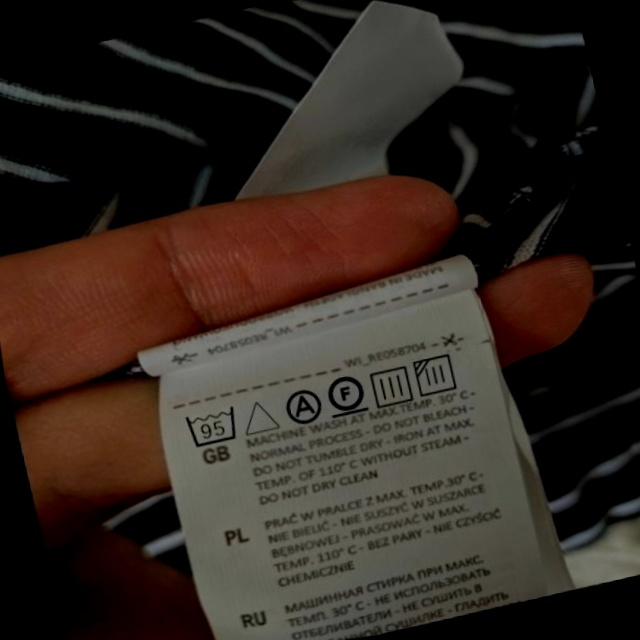95C: (181, 401, 245, 451)
bleach: (238, 392, 281, 440)
drip_dry: (366, 361, 417, 411)
drip_dry_in_shade: (411, 349, 464, 401)
dry_clean: (280, 385, 325, 429)
dry_clean_petrol_only: (323, 367, 371, 420)
